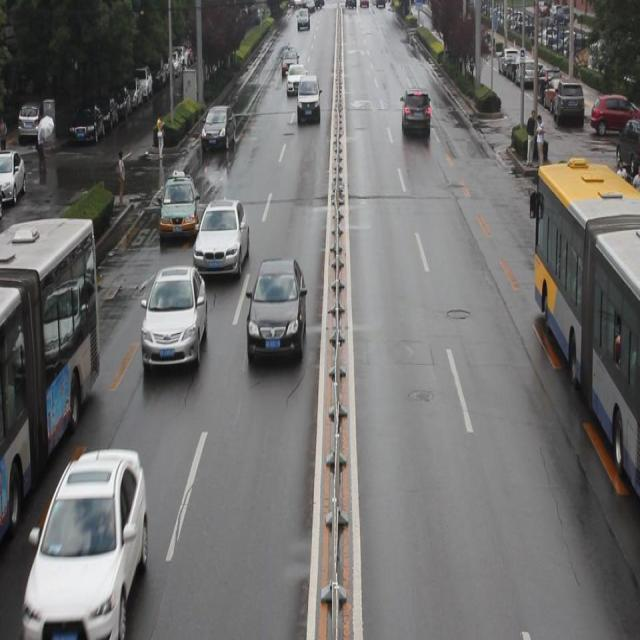car: (26, 450, 145, 630), (140, 269, 207, 372), (246, 259, 306, 367), (194, 200, 250, 279), (160, 170, 197, 240), (201, 105, 234, 155), (401, 91, 428, 141)
truck: (297, 76, 320, 126)
van: (528, 162, 640, 483), (1, 217, 98, 539)
